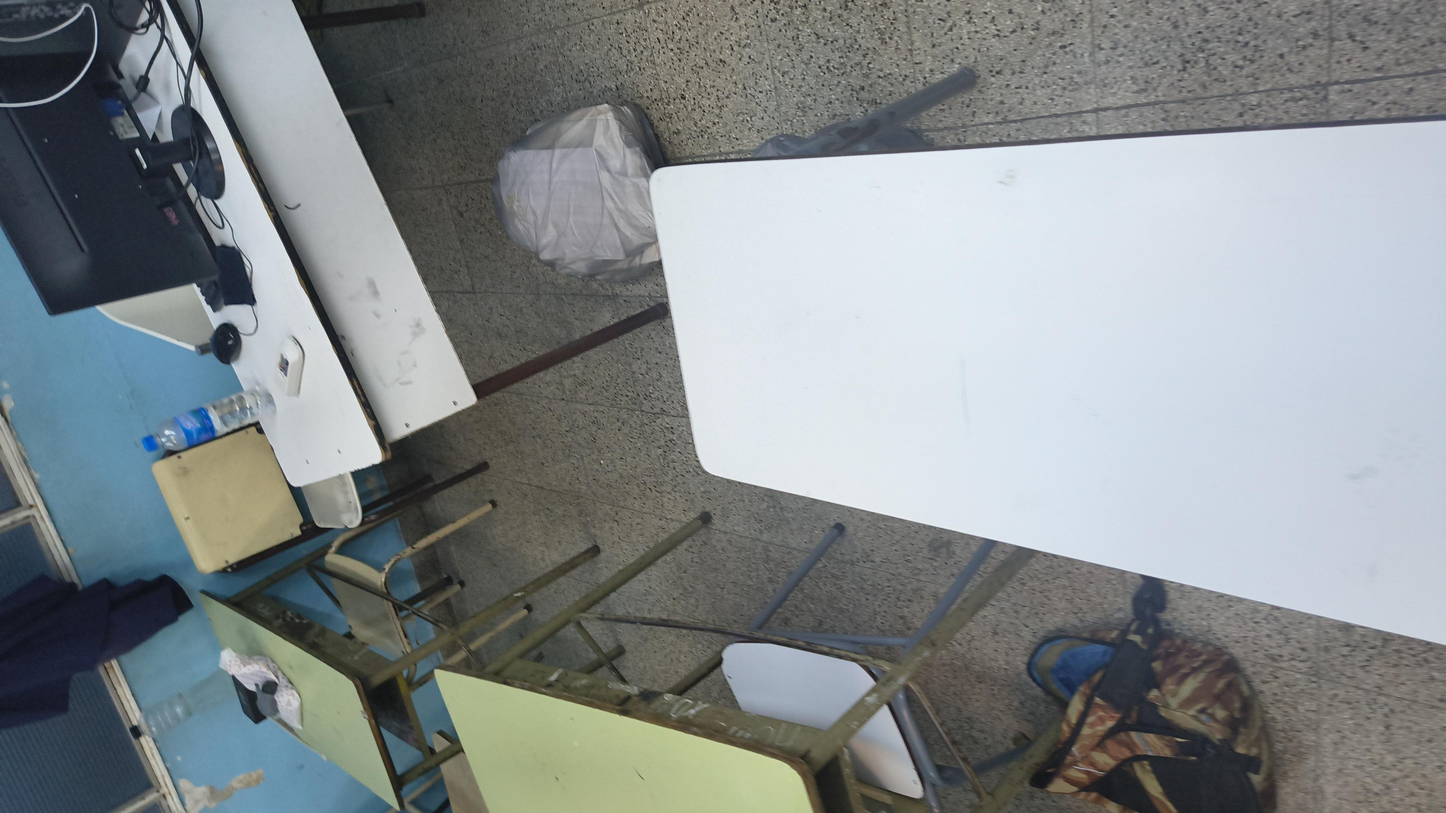Garbage: (879, 258, 1312, 389)
